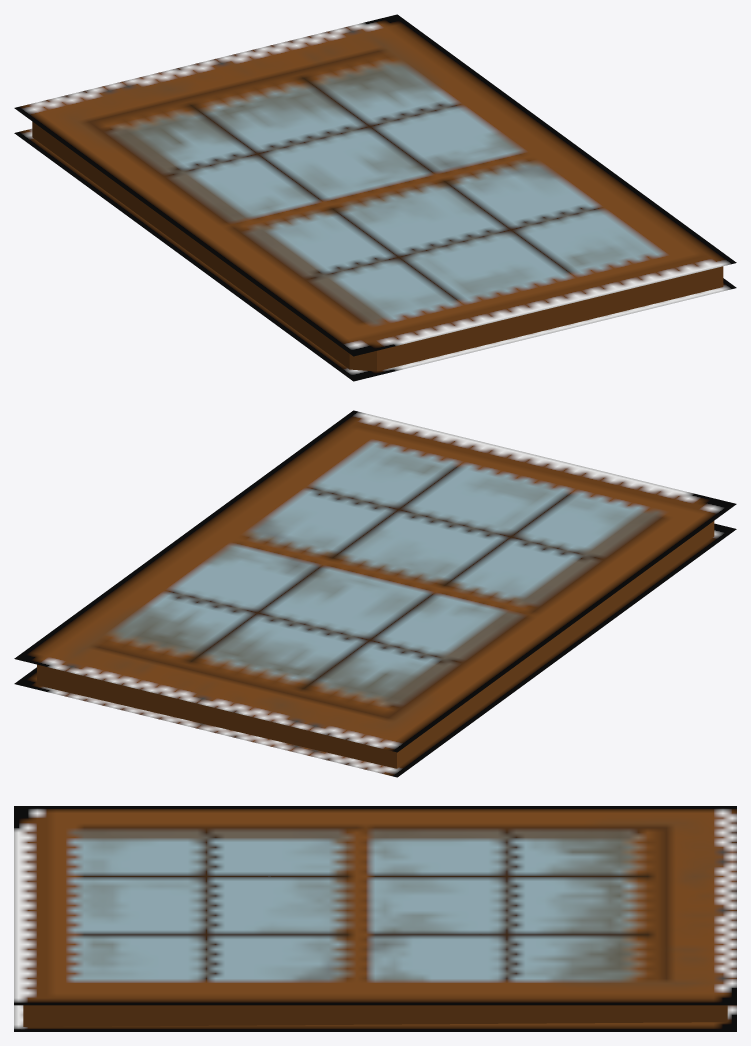
The model's file is pz_native_fixtures_windows_01_17_frame.obj.
The picture shows the model from 3 angles, top to bottom: view 1: azimuth 30°, elevation 25°; view 2: azimuth 150°, elevation 25°; view 3: azimuth 270°, elevation 25°; orthographic projection. The views are drawn at different scales.
Parts seen in each view (by area): view 1: pz_native_fixtures_windows_01_17_frame; view 2: pz_native_fixtures_windows_01_17_frame; view 3: pz_native_fixtures_windows_01_17_frame.
Part boxes in pixels (x1,y1,x2,y2): pz_native_fixtures_windows_01_17_frame: [14, 14, 736, 381]; pz_native_fixtures_windows_01_17_frame: [14, 410, 736, 777]; pz_native_fixtures_windows_01_17_frame: [14, 806, 736, 1031].
Size of the model in its own units: 0.6406 by 0.04 by 0.9823.
Materials: 1 (1 with a texture image).
